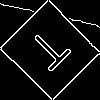T: (25, 25, 80, 80)
